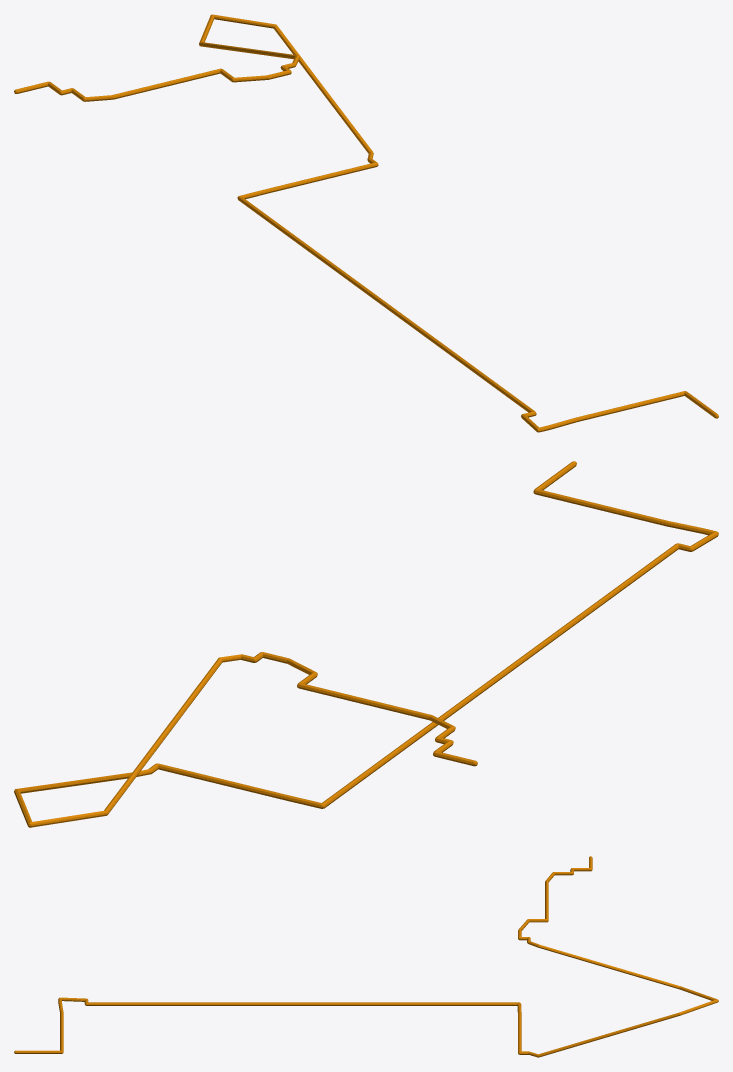
The picture shows the model from 3 angles, top to bottom: view 1: azimuth 30°, elevation 25°; view 2: azimuth 150°, elevation 25°; view 3: azimuth 270°, elevation 25°; orthographic projection. The views are drawn at different scales.
Size of the model in its own units: 1492 by 520 by 3829.
